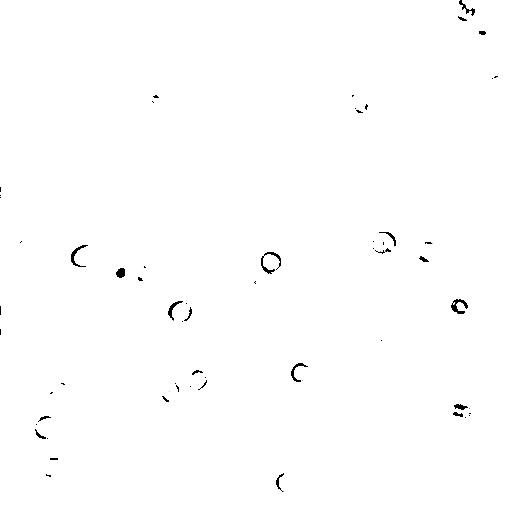micro-algae: (116, 408, 172, 462), (23, 349, 63, 385), (103, 255, 138, 290), (157, 259, 192, 292), (43, 378, 73, 408), (463, 19, 497, 43), (410, 239, 442, 264), (160, 0, 202, 19), (441, 379, 470, 405), (69, 244, 99, 269), (245, 270, 275, 295), (370, 230, 397, 257), (167, 299, 194, 326), (485, 69, 511, 95), (183, 368, 210, 393), (37, 456, 67, 477), (261, 248, 284, 275), (272, 471, 299, 494), (33, 415, 58, 438), (376, 321, 402, 343), (159, 377, 181, 402), (18, 235, 41, 258), (453, 1, 477, 22), (349, 91, 370, 115), (451, 403, 477, 422), (290, 362, 311, 382), (447, 298, 468, 316), (134, 265, 154, 283), (502, 444, 512, 475), (465, 1, 492, 9), (0, 308, 7, 330)
